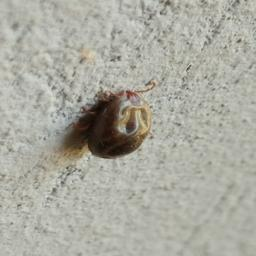Rhipicephalus sanguineus: (72, 80, 158, 159)
